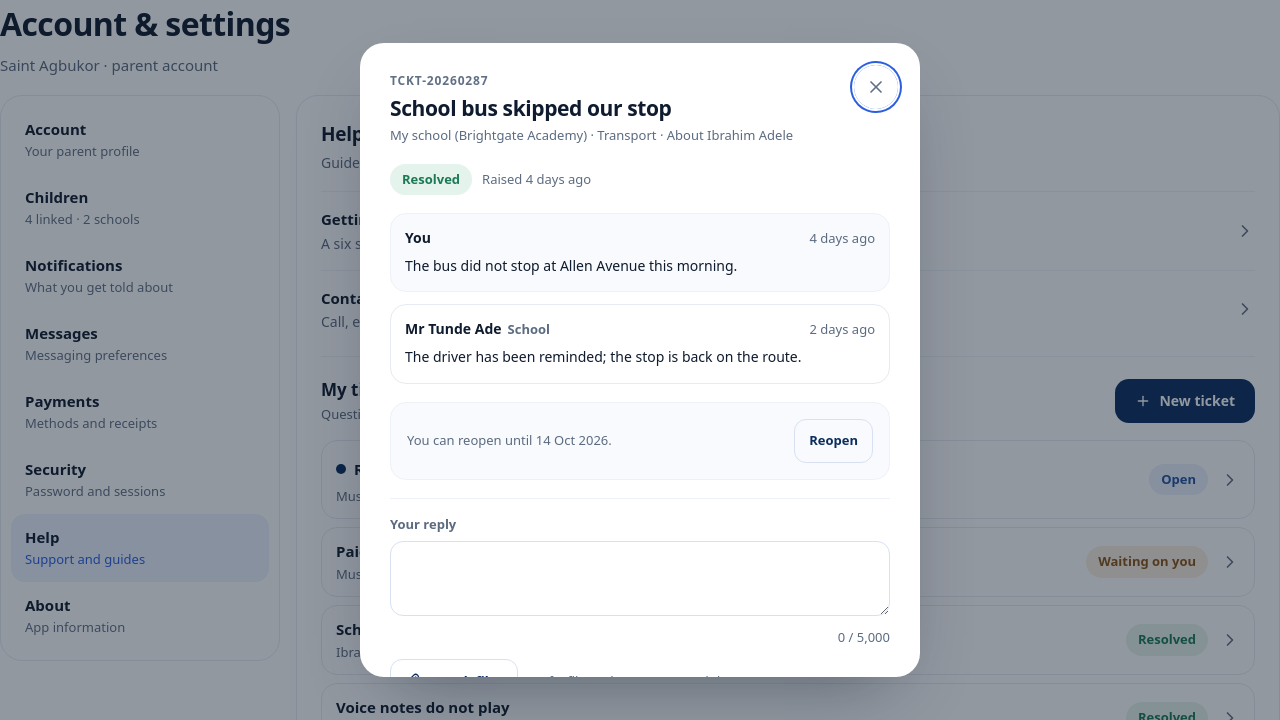
Test: Ticket thread (fixtures) › reopens a ticket resolved two days ago
Check: the list named "Messages" is shown, box top-left (390, 213), bottom-right (890, 384)
Check: the text "You can reopen until 14 Oct 2026." is shown, box top-left (407, 431), bottom-right (612, 450)
Click the button "Reopen". click: [834, 441]
box: top-left (794, 419), bottom-right (873, 463)
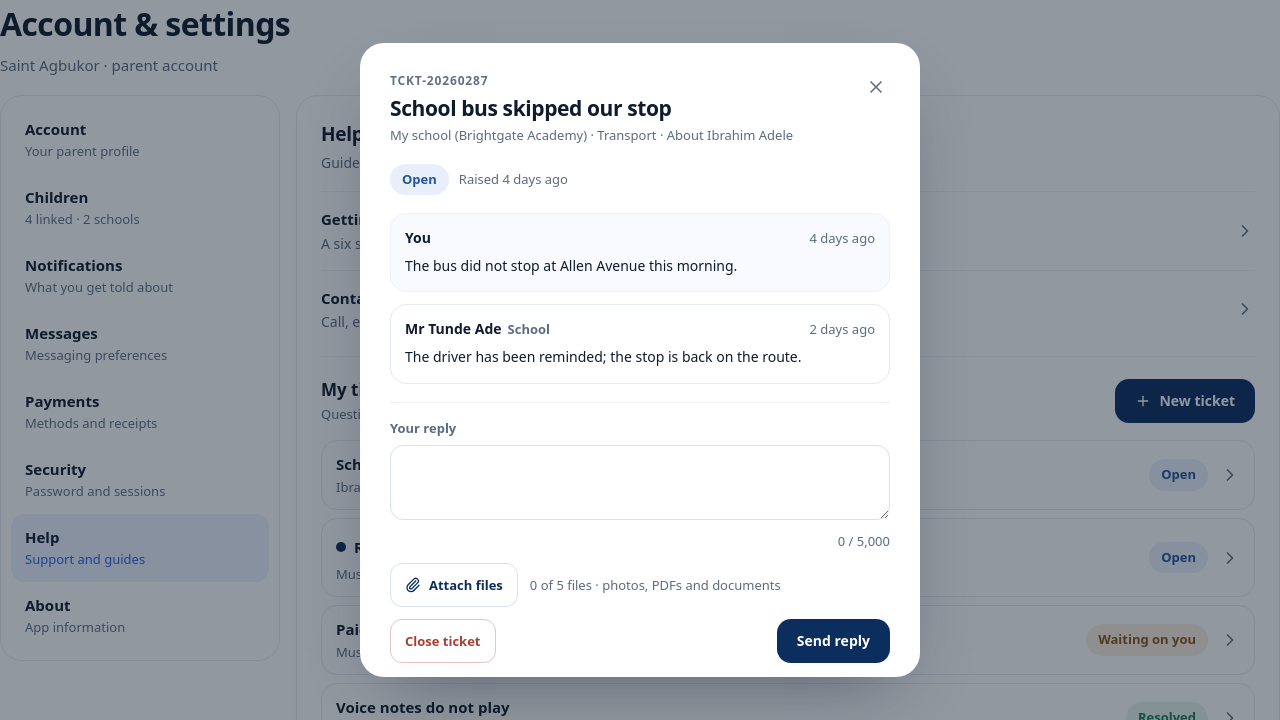
Check: the text "Open" is shown, box top-left (390, 164), bottom-right (449, 195)
Check: the text "reopen" is gone
